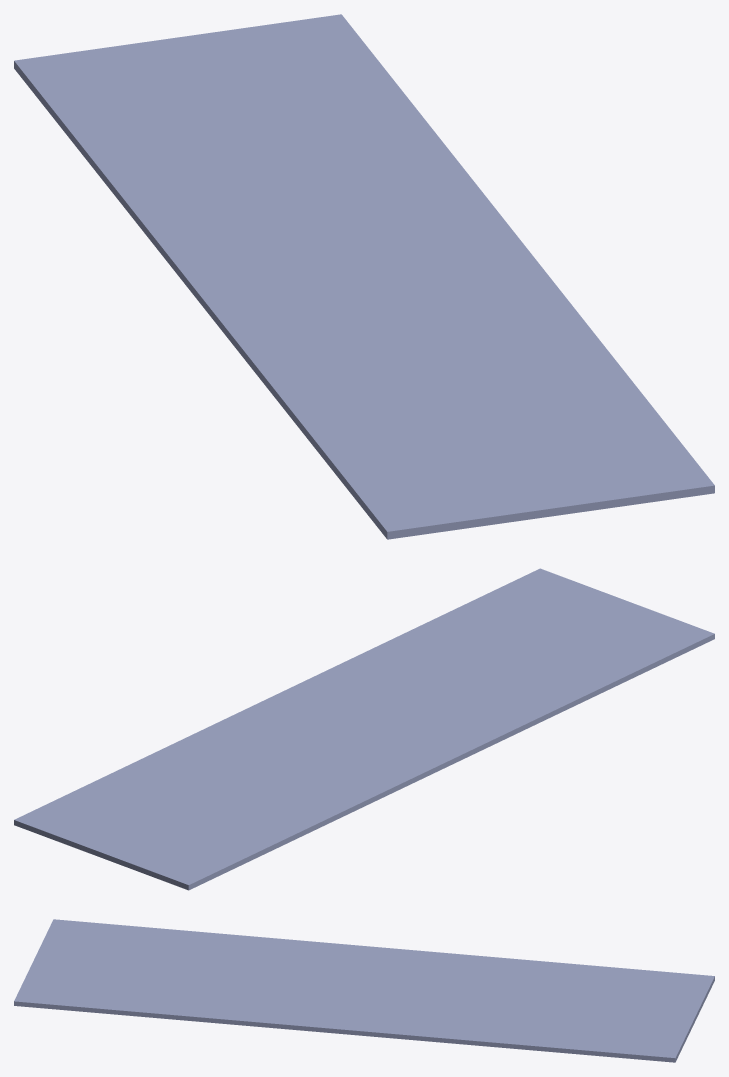
File: road.001_lev1.glb
The picture shows the model from 3 angles, top to bottom: view 1: azimuth 30°, elevation 25°; view 2: azimuth 150°, elevation 25°; view 3: azimuth 270°, elevation 25°; orthographic projection. The views are drawn at different scales.
Parts seen in each view (by area): view 1: road.001_lev1; view 2: road.001_lev1; view 3: road.001_lev1.
Boxes of the visible parts, left/top/right/bottom form: road.001_lev1: left=14, top=14, right=714, bottom=539; road.001_lev1: left=14, top=568, right=714, bottom=890; road.001_lev1: left=14, top=919, right=714, bottom=1062.
Size of the model in its own units: 7.77 by 0.1172 by 16.57.
Materials: 1 (1 with a texture image).
